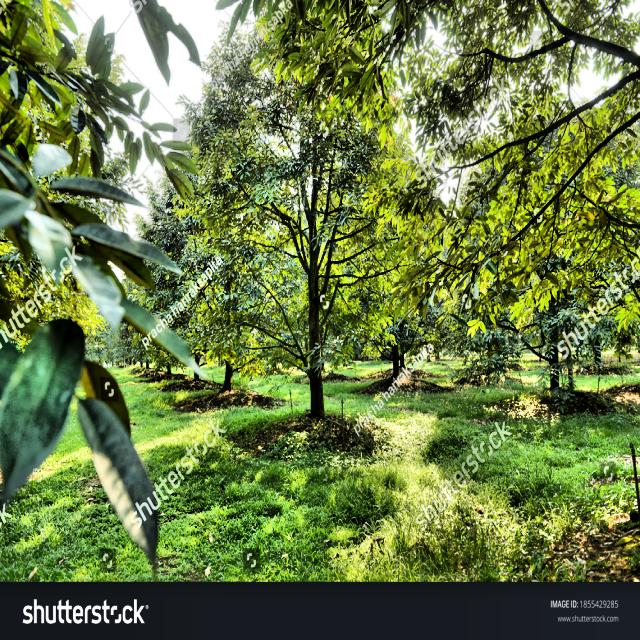arvore: (290, 142, 340, 429), (534, 244, 576, 403), (214, 245, 240, 404), (384, 276, 411, 381)
